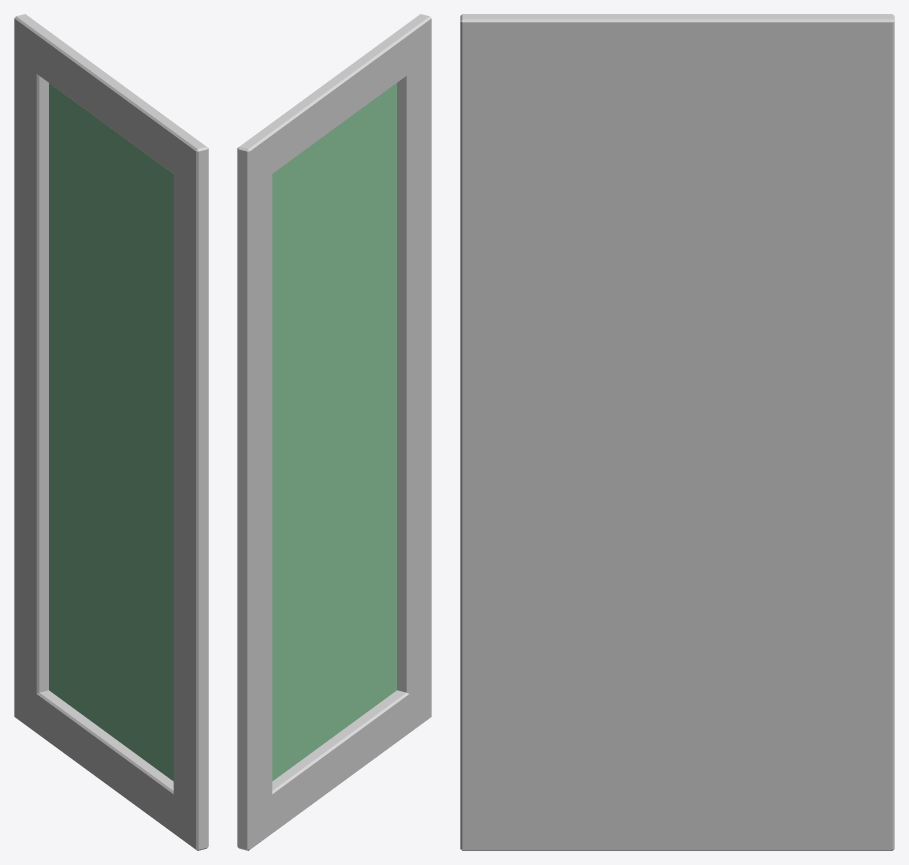
Rendered from MZBACO1.FBX.
The picture shows the model from 3 angles, left to right: view 1: azimuth 30°, elevation 25°; view 2: azimuth 150°, elevation 25°; view 3: azimuth 270°, elevation 25°; orthographic projection. The views are drawn at different scales.
Visible parts, largest first — view 1: MZBACO1; view 2: MZBACO1; view 3: MZBACO1.
Part boxes in pixels (x1,y1,x2,y2): MZBACO1: (14, 14, 208, 850); MZBACO1: (237, 14, 431, 850); MZBACO1: (460, 14, 894, 850).
Bounding box in the file's own units: 3.6 × 90 × 190.
